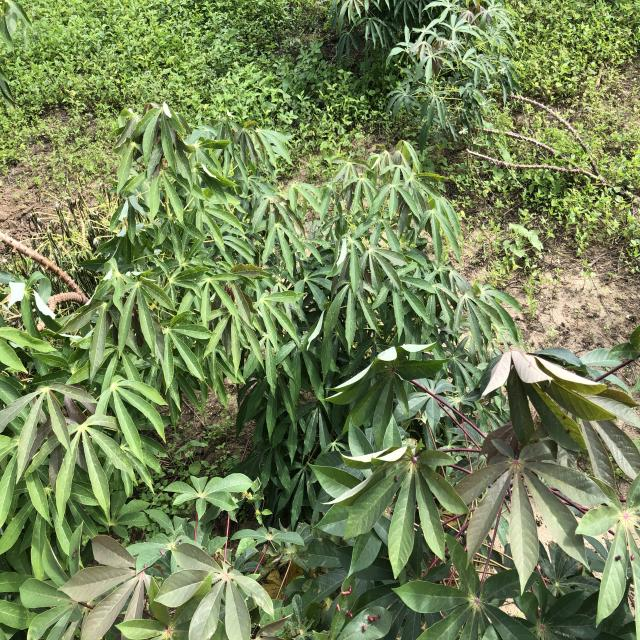Maleza: (0, 0, 310, 97), (529, 7, 637, 237)
Mosca: (350, 609, 389, 638), (605, 541, 640, 567)
